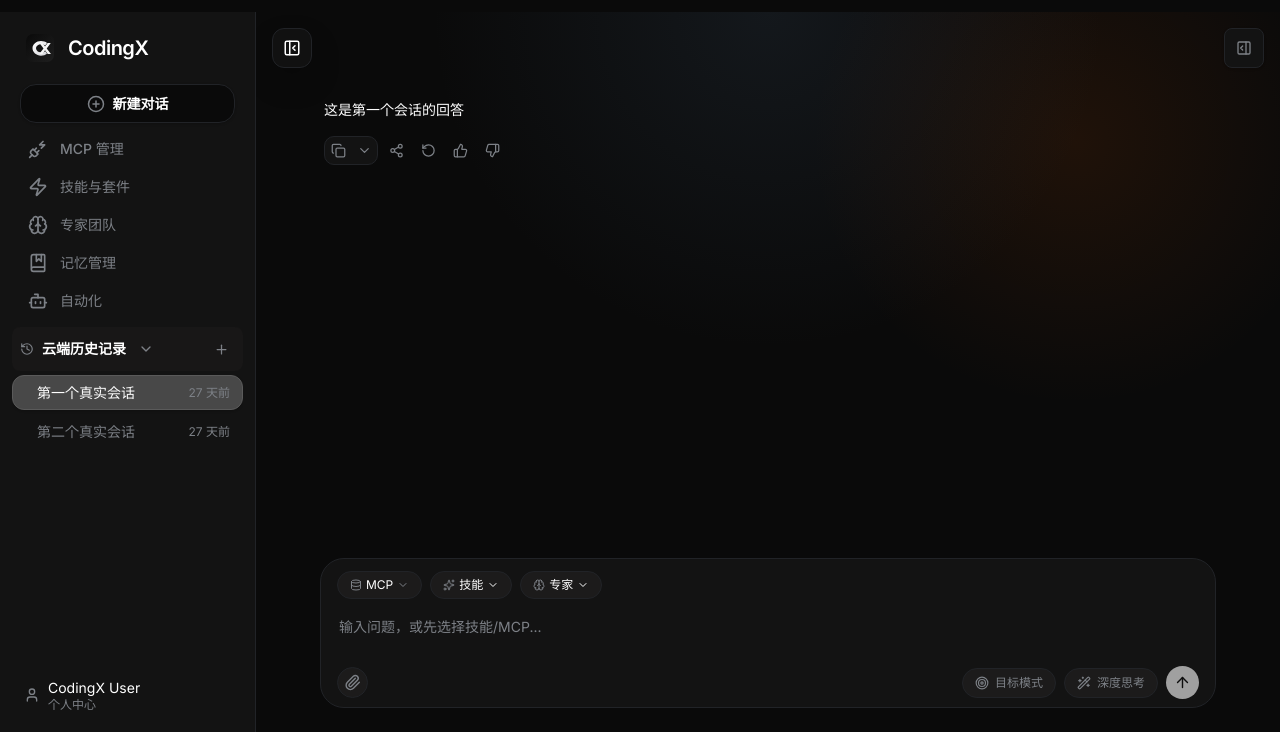
Test case: App › 应在点击侧边栏真实会话后切换到对应消息回放
Click the button "第二个真实会话" at (94, 432), box [25,421,162,442]
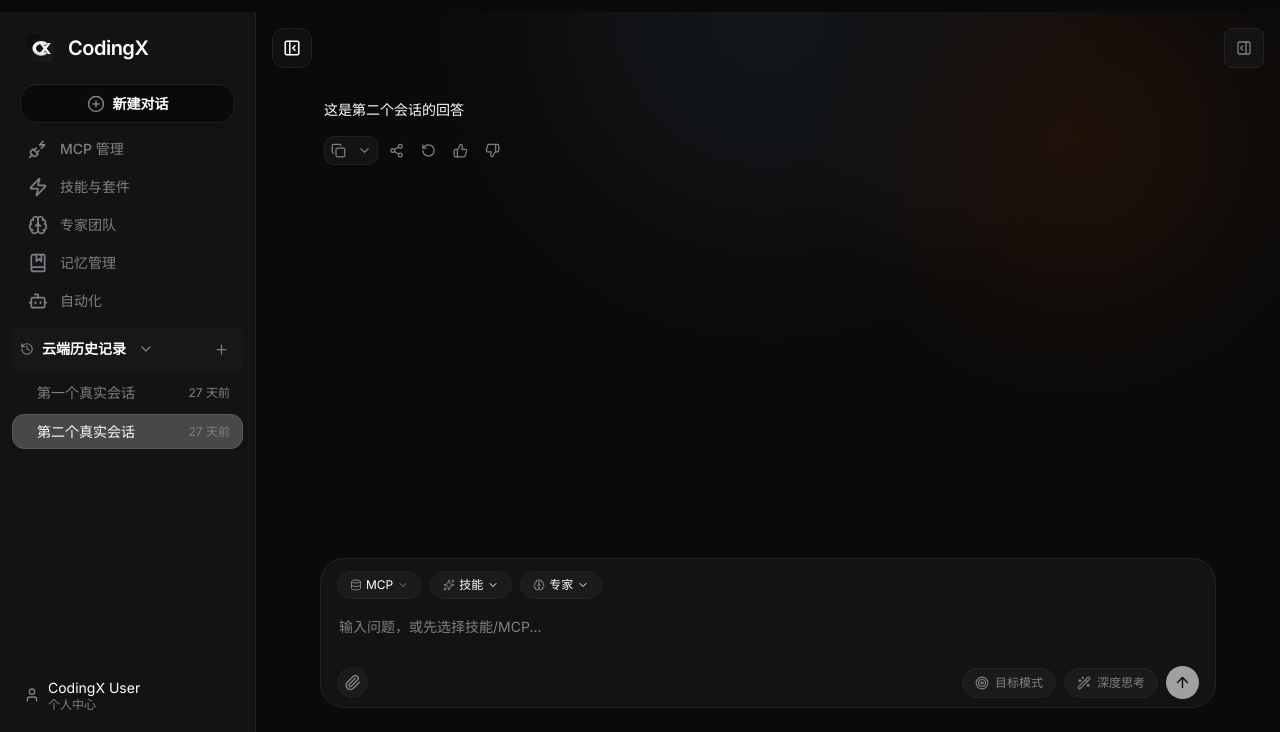
Expected: the text "这是第二个会话的回答" is shown, [324,101,464,118]
